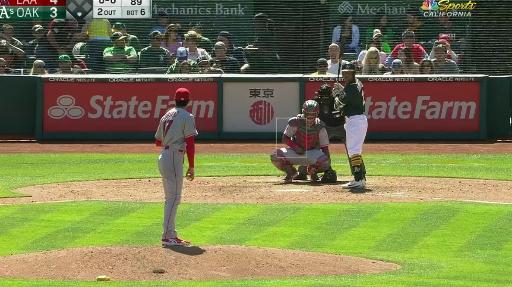pitcher: (155, 88, 199, 246)
